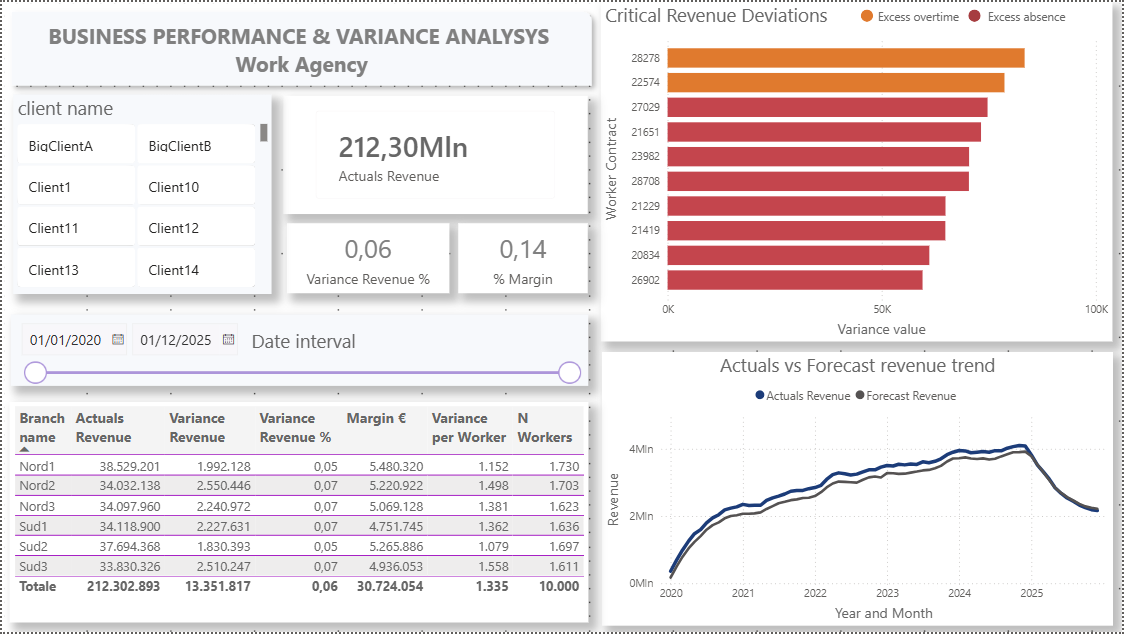

The dashboard page shown, as its layout file describes it:
{"tool":"powerbi","page":{"name":"Variance","canvas":[1280,720],"ordinal":0},"visuals":[{"type":"clusteredBarChart","title":"Critical Revenue Deviations","fields":{"Y":["30_fact actual_forecast.1 Abs Variance per Contract"],"Category":["20_dim idcontract.idcontract"]},"box":[685,0,585,388.3],"z":0},{"type":"shape","box":[0,0,685,106.7],"z":1000},{"type":"cardVisual","fields":{"Data":["30_fact actual_forecast.ActualsRevenue"]},"box":[321.7,106.7,348.3,135],"z":2000},{"type":"card","fields":{"Values":["30_fact actual_forecast.Variance Revenue %"]},"box":[326.2,253.5,185.8,80],"z":3000},{"type":"card","fields":{"Values":["30_fact actual_forecast.% Margin"]},"box":[521.7,253.3,148.3,80],"z":4000},{"type":"advancedSlicerVisual","title":"client name","fields":{"Values":["20_dim clients.client_name"]},"box":[12.3,105.8,295.4,227.7],"z":5000},{"type":"textbox","box":[0,16.7,685,76.7],"z":6000},{"type":"slicer","fields":{"Values":["30_fact actual_forecast.month_year"]},"box":[10,356.7,660,81.7],"z":7000},{"type":"lineChart","title":"Actuals vs Forecast revenue trend","fields":{"Y":["30_fact actual_forecast.ActualsRevenue","30_fact actual_forecast.ForecastRevenue"],"Category":["30_fact actual_forecast.month_year.Variazione.Gerarchia data.Anno","30_fact actual_forecast.month_year.Variazione.Gerarchia data.Mese"]},"box":[685,400.6,584.3,312.9],"z":8000},{"type":"tableEx","fields":{"Values":["20_dim branch.branch_name","30_fact actual_forecast.ActualsRevenue","30_fact actual_forecast.VarianceRevenue","30_fact actual_forecast.Variance Revenue %","30_fact actual_forecast.Margin €","30_fact actual_forecast.Variance per worker","30_fact actual_forecast.N Workers"]},"box":[8.3,456.7,661.7,251.7],"z":9000},{"type":"textbox","box":[280.2,366.7,334.9,40],"z":10000},{"type":"shape","box":[981.6,8.6,14.2,14.2],"z":11000},{"type":"textbox","box":[995.8,2.7,147,33.2],"z":12000},{"type":"shape","box":[1103.9,8.8,14.2,14.2],"z":13000},{"type":"textbox","box":[1121.7,2.8,133.9,33.2],"z":14000}]}

Visuals, with their boxes in screenshot pixels (x1, y1, x2, y2), scaled from the page's 1280x720 canvas onto the 1125x635 screenshot:
"Critical Revenue Deviations" clusteredBarChart: rect(602, 0, 1116, 342)
shape: rect(0, 0, 602, 94)
cardVisual - 30_fact actual_forecast.ActualsRevenue: rect(283, 94, 589, 213)
card - 30_fact actual_forecast.Variance Revenue %: rect(287, 224, 450, 294)
card - 30_fact actual_forecast.% Margin: rect(459, 223, 589, 294)
"client name" advancedSlicerVisual: rect(11, 93, 270, 294)
textbox: rect(0, 15, 602, 82)
slicer - 30_fact actual_forecast.month_year: rect(9, 315, 589, 387)
"Actuals vs Forecast revenue trend" lineChart: rect(602, 353, 1116, 629)
tableEx - 20_dim branch.branch_name x 30_fact actual_forecast.ActualsRevenue: rect(7, 403, 589, 625)
textbox: rect(246, 323, 541, 359)
shape: rect(863, 8, 875, 20)
textbox: rect(875, 2, 1004, 32)
shape: rect(970, 8, 983, 20)
textbox: rect(986, 2, 1104, 32)
